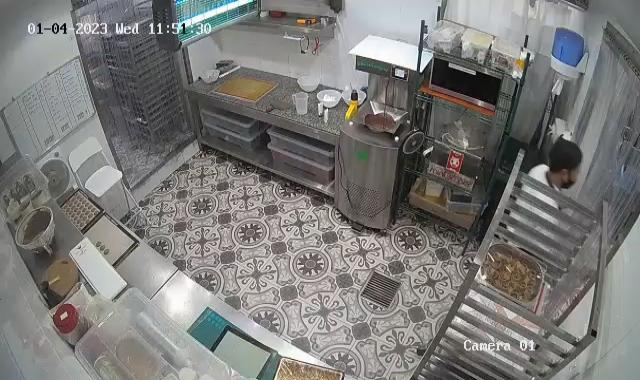no_hairnet: (547, 138, 583, 176)
